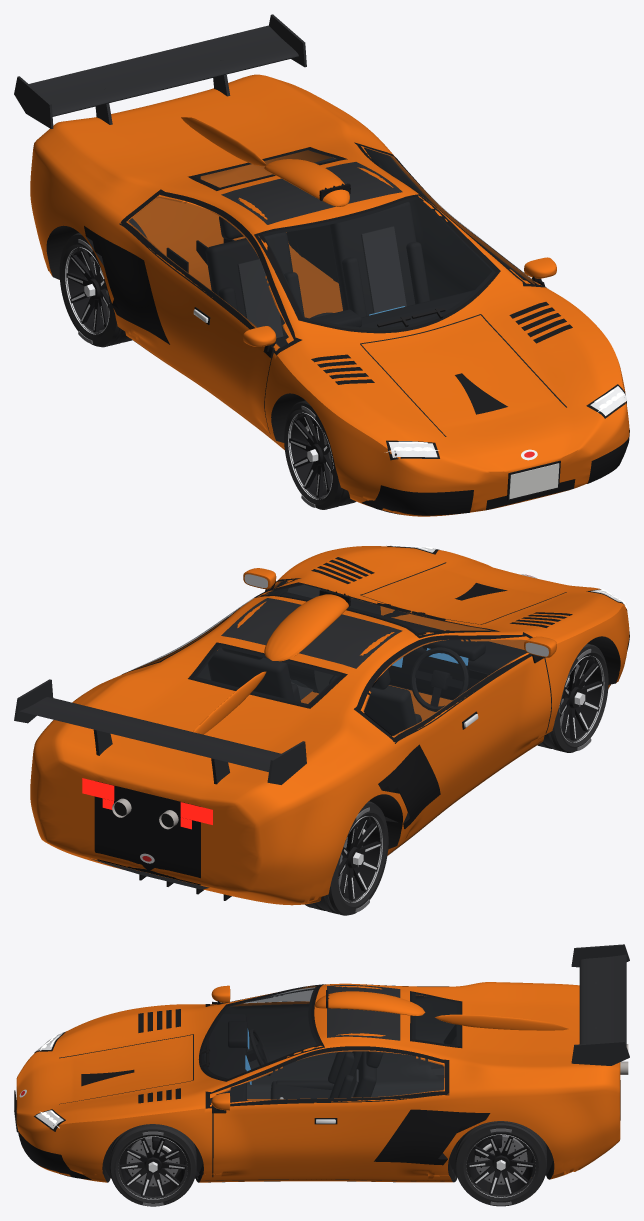
The model's file is sto.glb.
3 renders of one model, top to bottom at view 1: azimuth 30°, elevation 25°; view 2: azimuth 150°, elevation 25°; view 3: azimuth 270°, elevation 25°, orthographic. The views are drawn at different scales.
Visible parts, largest first — view 1: Body, Wheel_RR, Wheel_FR; view 2: Body, Wheel_RR, Wheel_FR; view 3: Body, Wheel_RL, Wheel_FL.
Part boxes in pixels (x1,y1,x2,y2): Body: (14, 14, 629, 516); Wheel_RR: (59, 233, 132, 347); Wheel_FR: (284, 400, 356, 509); Body: (14, 545, 629, 905); Wheel_RR: (305, 801, 388, 915); Wheel_FR: (537, 643, 608, 752); Body: (14, 944, 629, 1182); Wheel_RL: (455, 1121, 546, 1206); Wheel_FL: (109, 1124, 196, 1206).
Size of the model in its own units: 2.1 by 1.35 by 4.64.
